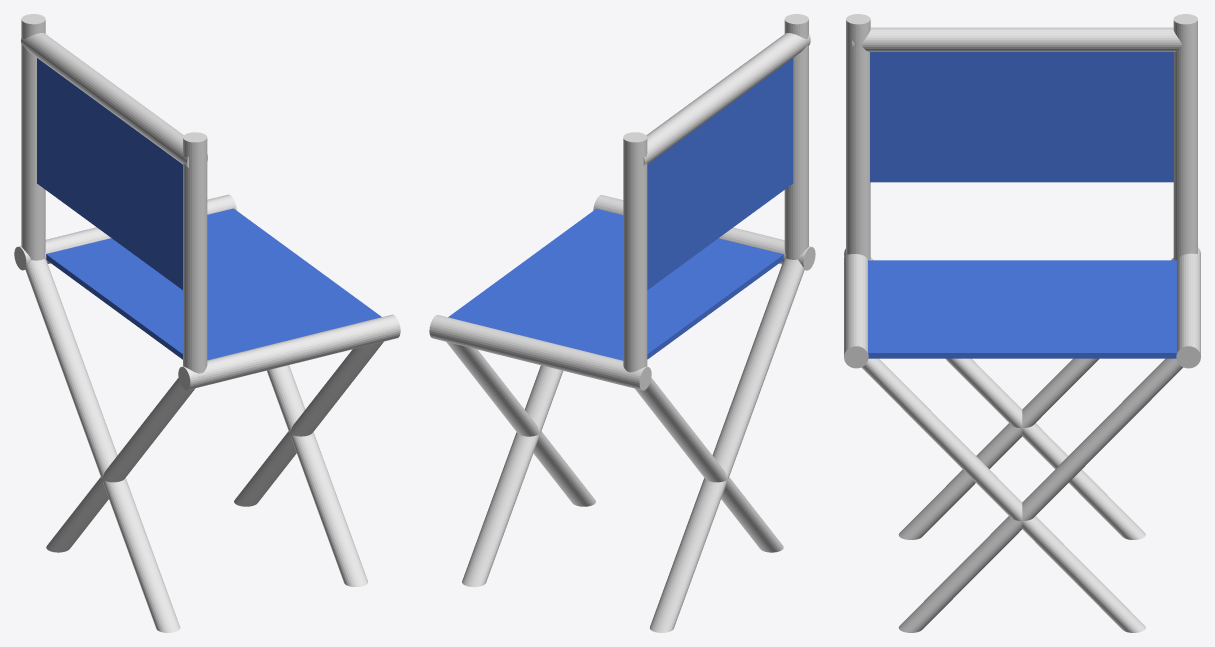
File: chair.fbx
The picture shows the model from 3 angles, left to right: view 1: azimuth 30°, elevation 25°; view 2: azimuth 150°, elevation 25°; view 3: azimuth 270°, elevation 25°; orthographic projection.
Parts seen in each view (by area): view 1: Cube.004, Cylinder.005, Cylinder.003, Cube.002, Cylinder.008; view 2: Cube.004, Cylinder.003, Cylinder.005, Cube.002, Cylinder.008; view 3: Cube.002, Cube.004, Cylinder.005, Cylinder.003, Cylinder.008.
Part boxes in pixels (x1,y1,x2,y2): Cube.004: [46, 208, 381, 360]; Cylinder.005: [14, 14, 367, 632]; Cylinder.003: [46, 132, 400, 552]; Cube.002: [37, 58, 182, 289]; Cylinder.008: [21, 33, 207, 168]; Cube.004: [448, 208, 783, 360]; Cylinder.003: [462, 14, 815, 632]; Cylinder.005: [429, 132, 783, 552]; Cube.002: [647, 58, 793, 289]; Cylinder.008: [643, 33, 810, 165]; Cube.002: [870, 52, 1173, 182]; Cube.004: [868, 260, 1176, 358]; Cylinder.005: [898, 14, 1200, 632]; Cylinder.003: [844, 14, 1145, 632]; Cylinder.008: [852, 27, 1181, 51].
Bounding box in the file's own units: 400 × 926 × 581.
